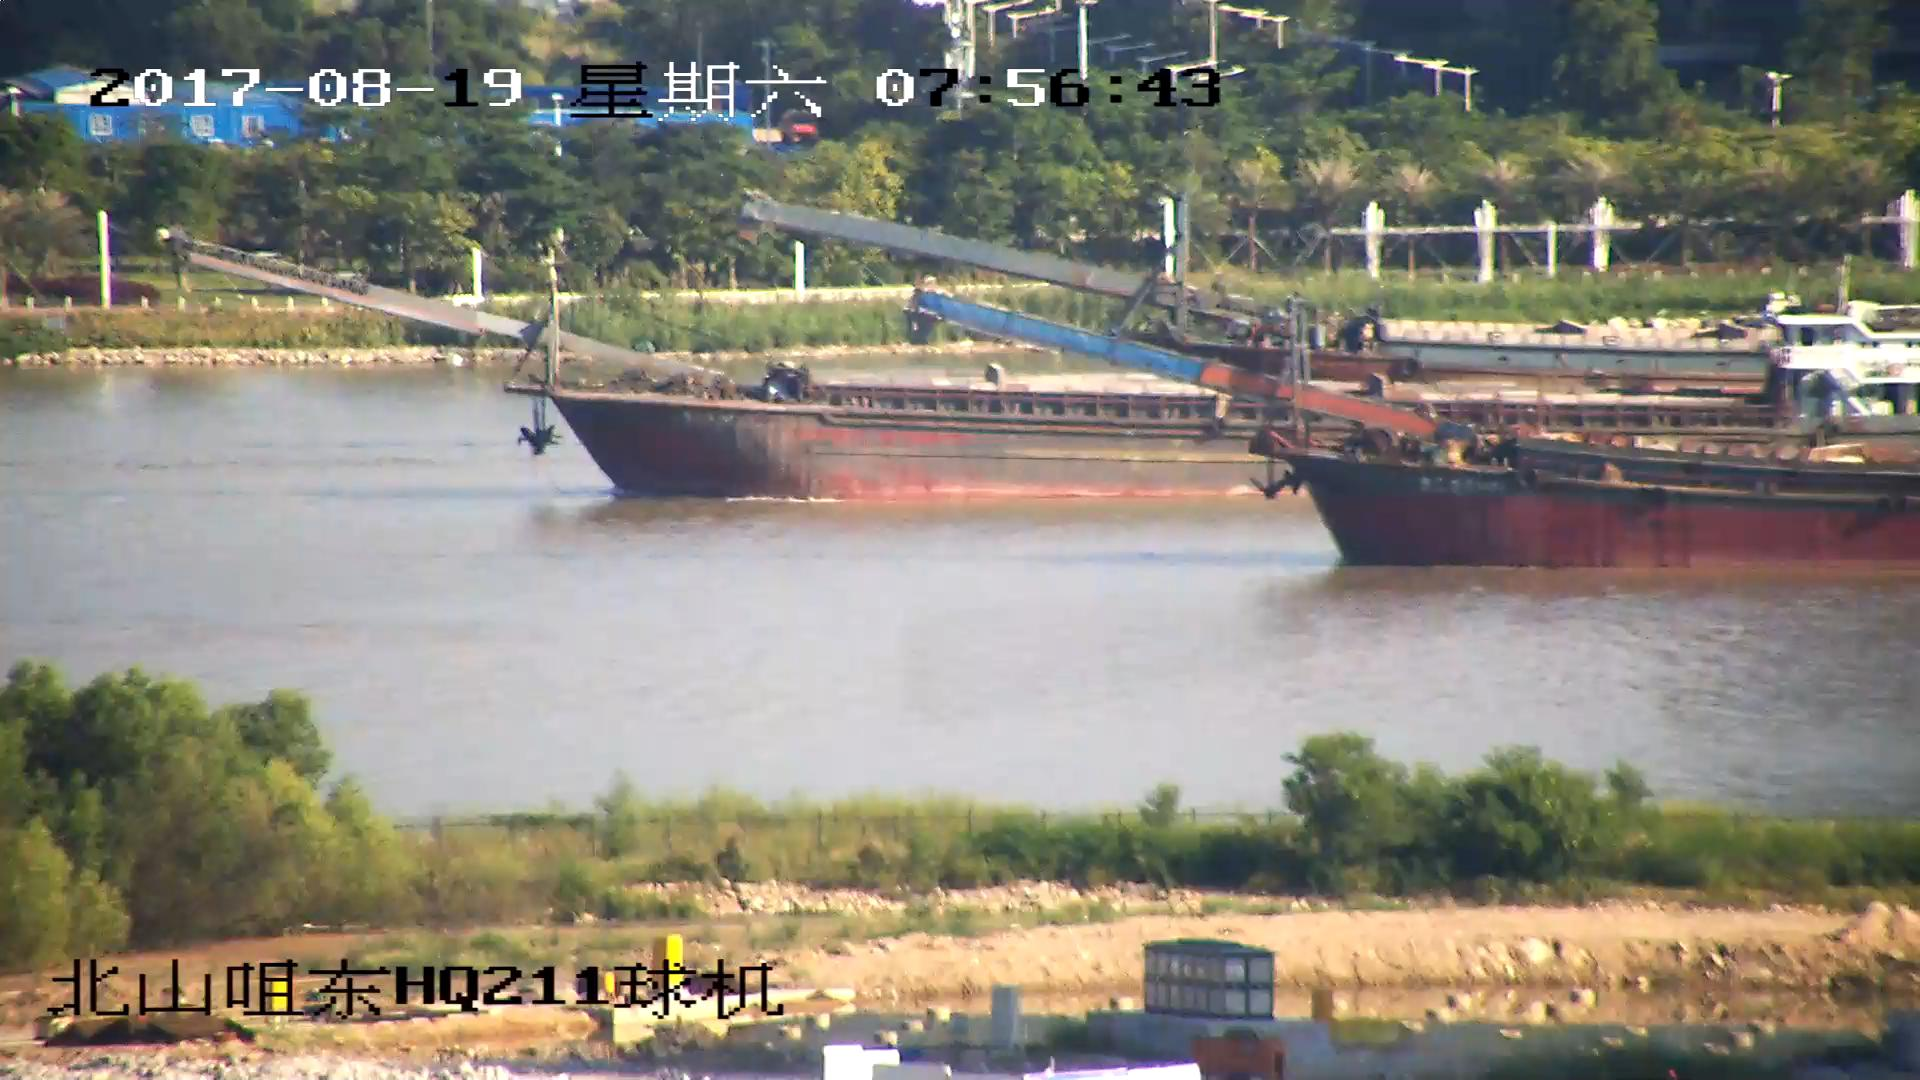bulk cargo carrier: (158, 240, 1301, 505), (916, 290, 1920, 567), (740, 190, 1920, 362)
